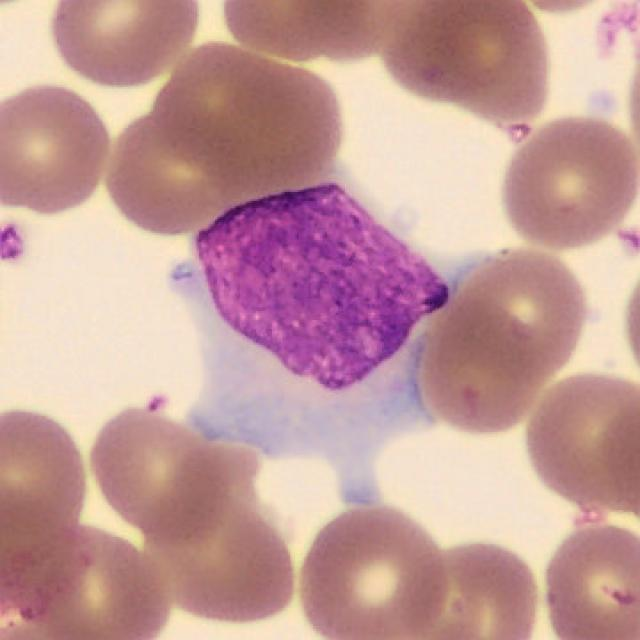Linfocito atipico: (171, 178, 487, 503)
